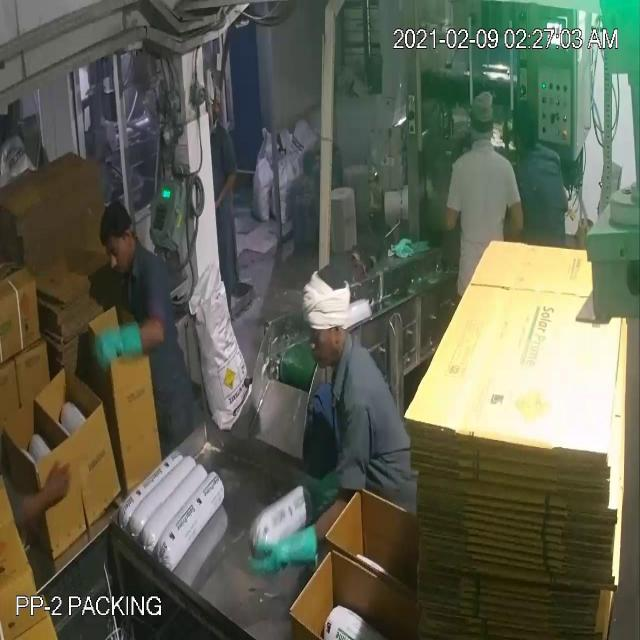No_Gloves: (32, 42, 285, 554)
